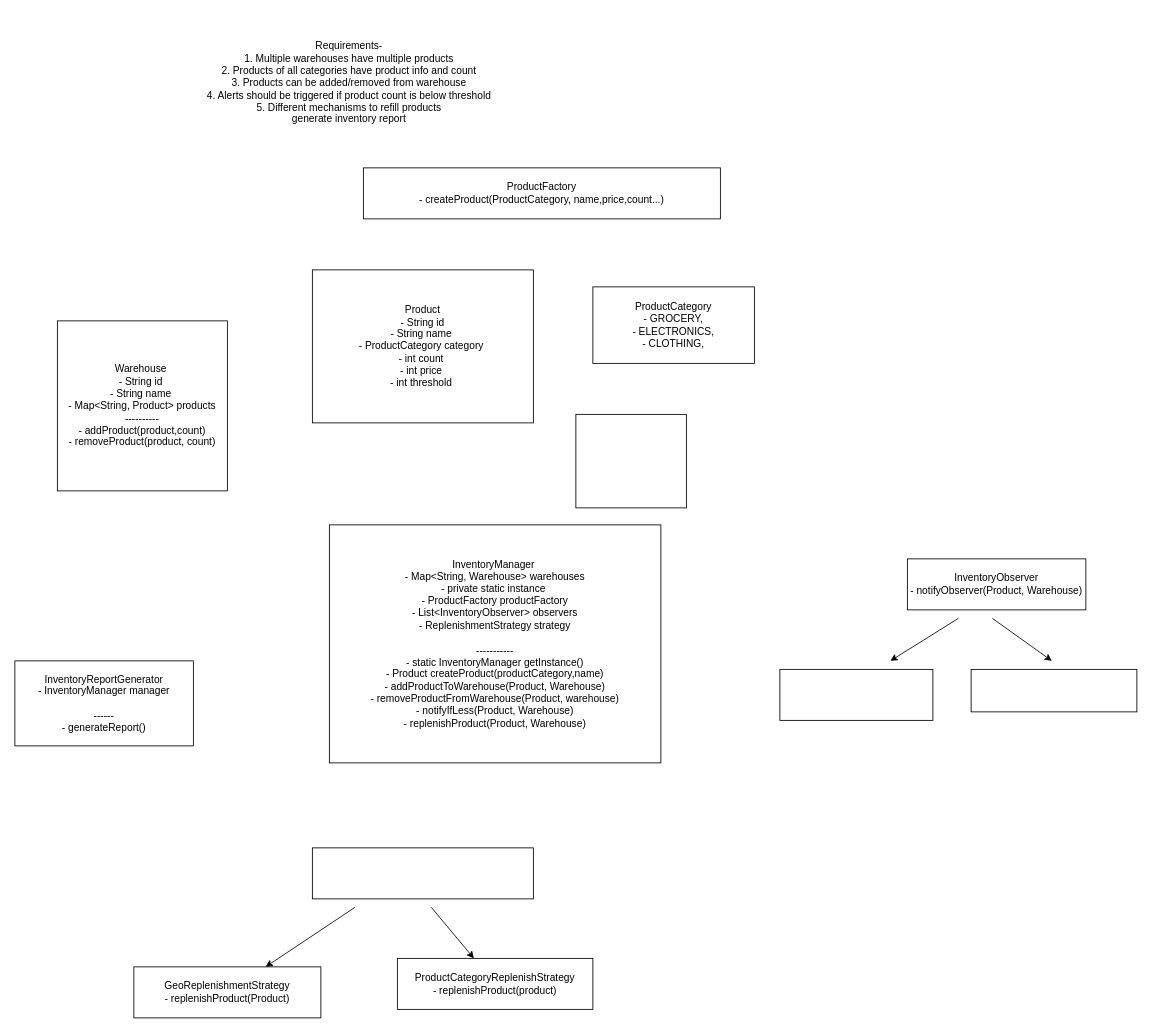
Image size: 1152x1033. Some labels were removed from this diagram. Each missing label, with the centre of its shape:
"InventoryOperations - ADD, - REMOVE," belongs at point (630, 461).
"ReplenishmentStrategy - replenishProduct(Product)" belongs at point (422, 873).
"ReportObserver - notifyObserver()" belongs at point (1053, 690).
"StockObserver - notifyObserver()" belongs at point (856, 694).
